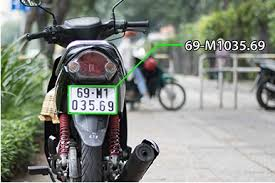Bien-so: (71, 85, 117, 112)
